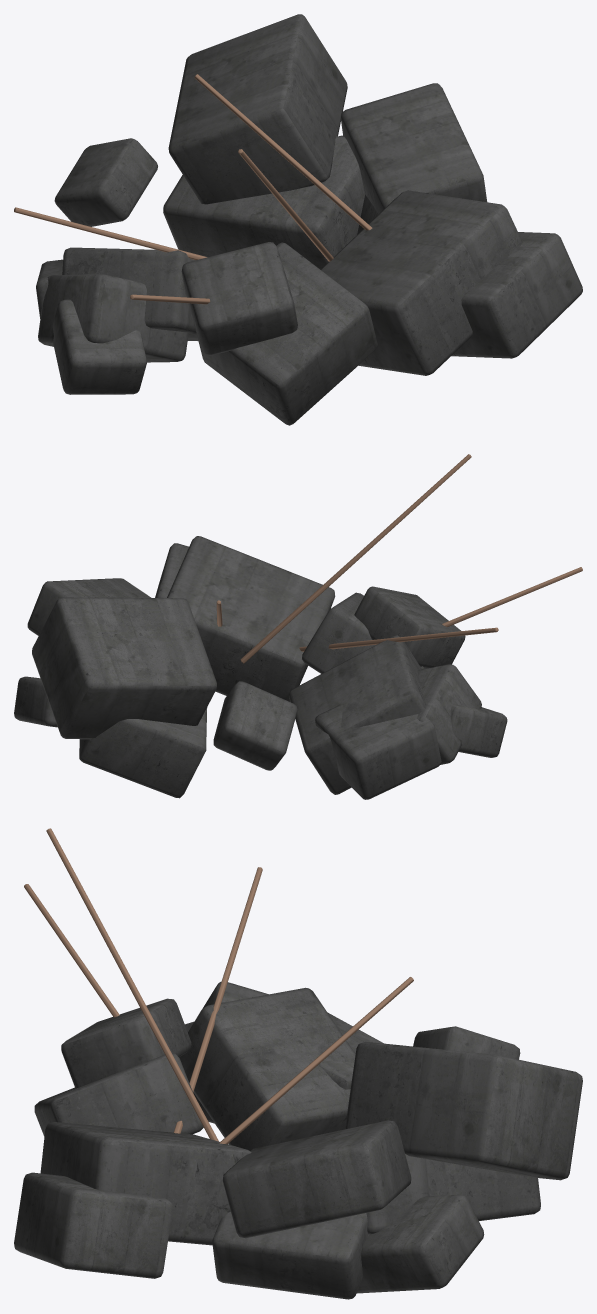
The model's file is prop_rubble.glb.
The picture shows the model from 3 angles, top to bottom: view 1: azimuth 30°, elevation 25°; view 2: azimuth 150°, elevation 25°; view 3: azimuth 270°, elevation 25°; orthographic projection. The views are drawn at different scales.
Visible parts, largest first — view 1: Chunk11, Chunk1, Chunk6, Chunk12, Chunk3, Chunk9, Chunk10, Chunk4, Chunk13, Chunk0, Chunk7, Rebar3 (+3 smaller); view 2: Chunk11, Chunk1, Chunk7, Chunk8, Chunk3, Chunk13, Chunk10, Chunk4, Chunk6, Chunk12, Chunk0, Rebar0 (+4 smaller); view 3: Chunk11, Chunk7, Chunk12, Chunk1, Chunk9, Chunk5, Chunk2, Chunk6, Chunk10, Chunk3, Rebar0, Chunk13 (+5 smaller).
Boxes of the visible parts, x1,y1,x2,y2 form: Chunk11: (168,14,347,204); Chunk1: (321,190,522,375); Chunk6: (194,242,377,425); Chunk12: (341,83,487,213); Chunk3: (163,136,365,269); Chunk9: (451,232,582,358); Chunk10: (181,242,297,355); Chunk4: (38,274,188,362); Chunk13: (54,138,157,226); Chunk0: (52,299,147,394); Chunk7: (62,247,198,340); Rebar3: (194,74,372,230); Chunk11: (32,597,216,739); Chunk1: (167,536,335,701); Chunk7: (289,635,425,794); Chunk8: (315,705,441,799); Chunk3: (79,707,207,798); Chunk13: (213,681,297,770); Chunk10: (354,586,465,668); Chunk4: (417,664,481,764); Chunk6: (302,592,427,673); Chunk12: (27,578,151,635); Chunk0: (450,704,507,757); Rebar0: (240,454,471,663); Chunk11: (345,1041,582,1180); Chunk7: (179,987,355,1150); Chunk12: (222,1120,411,1238); Chunk1: (40,1122,251,1245); Chunk9: (14,1172,172,1278); Chunk5: (212,1211,368,1299); Chunk2: (356,1194,484,1293); Chunk6: (34,1053,203,1136); Chunk10: (61,998,191,1088); Chunk3: (366,1154,540,1234); Rebar0: (46,828,218,1141); Chunk13: (413,1026,520,1059).
Size of the model in its own units: 2.27 by 1.31 by 2.12.
Materials: 2 (1 with a texture image).
